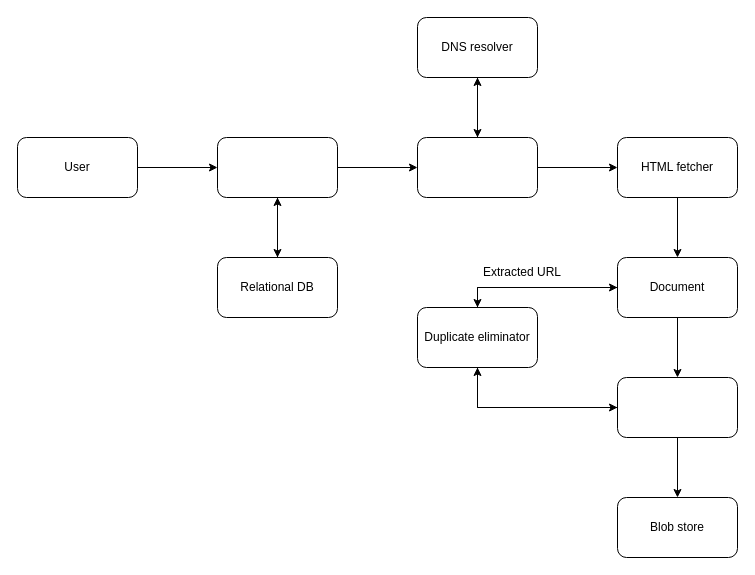
Some shapes in this 755 by 575 pixel diagram are drawn without their labels. The shapes that lost their labels are listed below. From the top down, each one's centre as x and y in pixels, then its label:
At pixel 277 167: "Priority queue".
At pixel 477 167: "Service host".
At pixel 677 407: "Document input stream".
